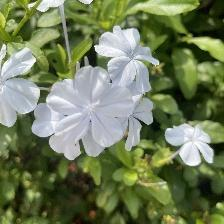chitrak: (46, 66, 133, 146), (94, 22, 160, 91), (1, 42, 43, 130), (165, 123, 216, 166)
